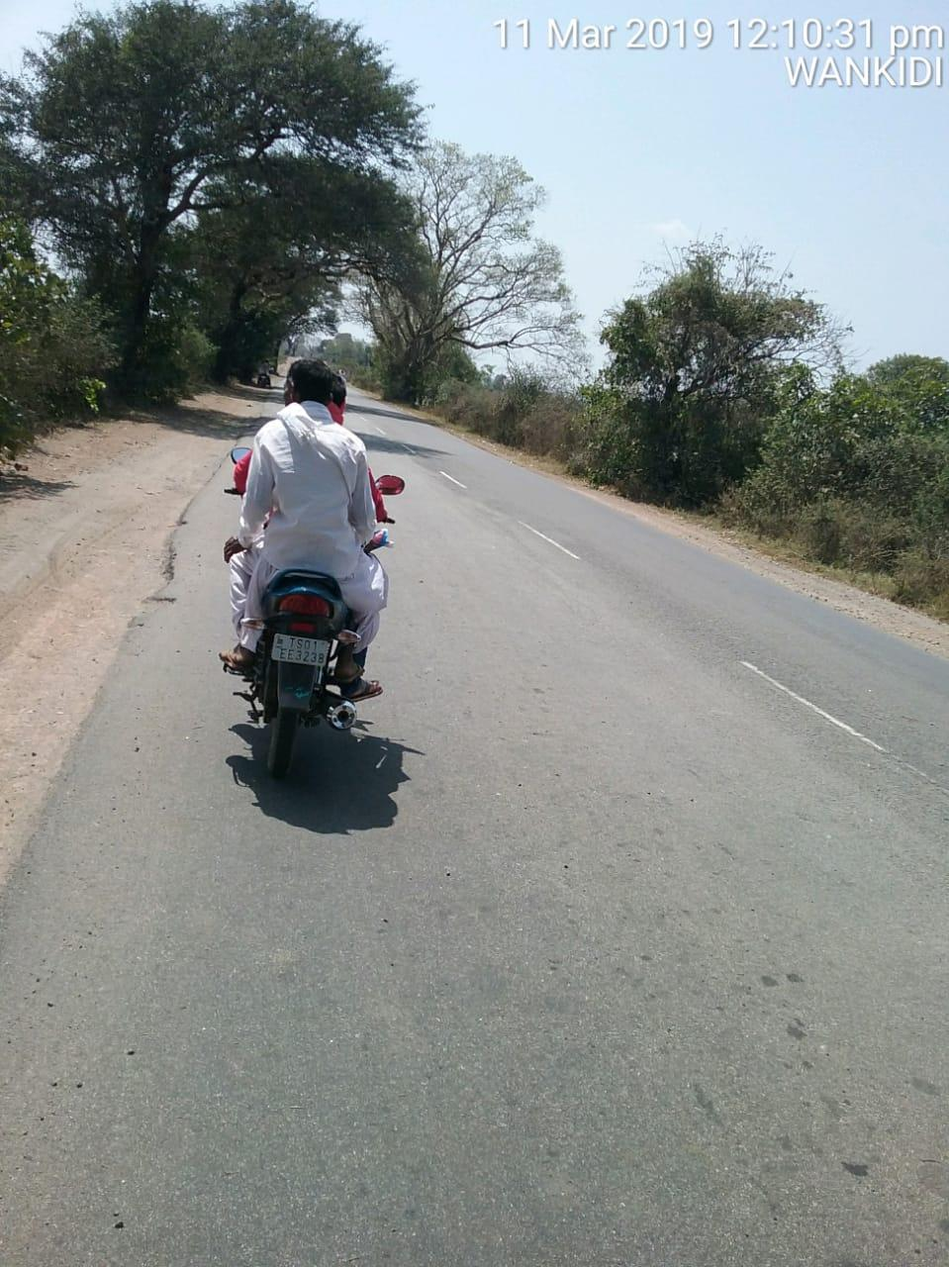plate: (267, 630, 333, 672)
